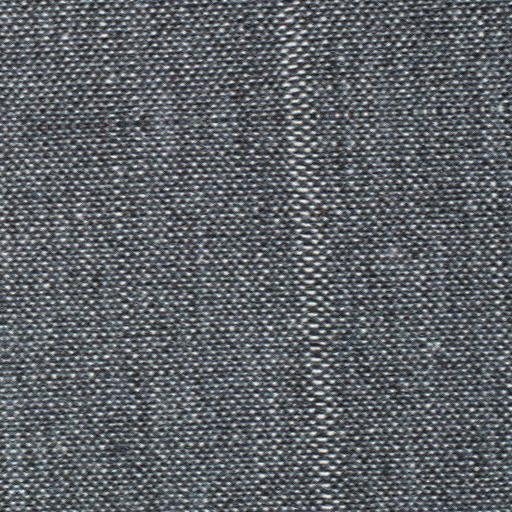slub: (273, 2, 353, 512)
